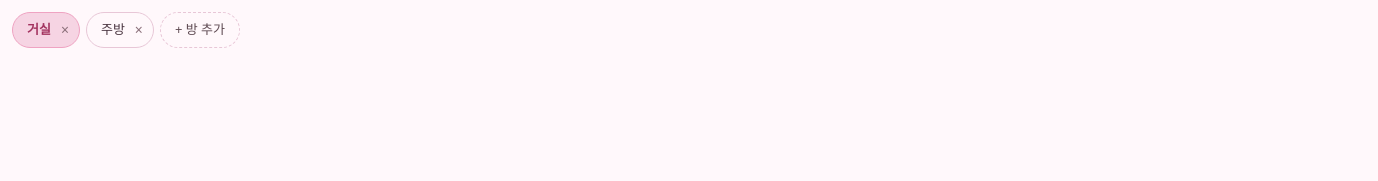
Test: RoomTabs › cancels the delete flow without changing anything
The image size is (1378, 181).
Click the button named "주방 삭제" at (143, 30), box [133,17,153,43]
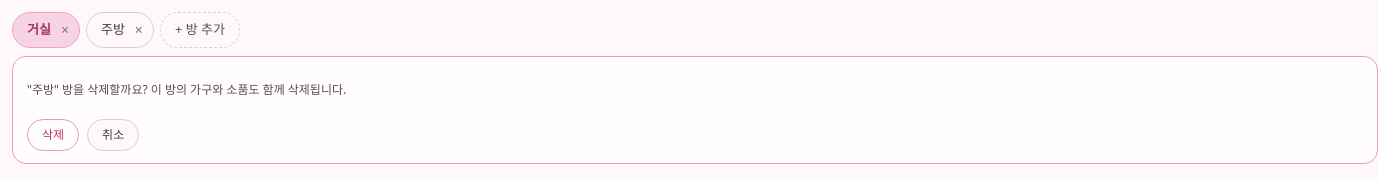
Click the button "취소" at (113, 134), box [87,118,139,150]
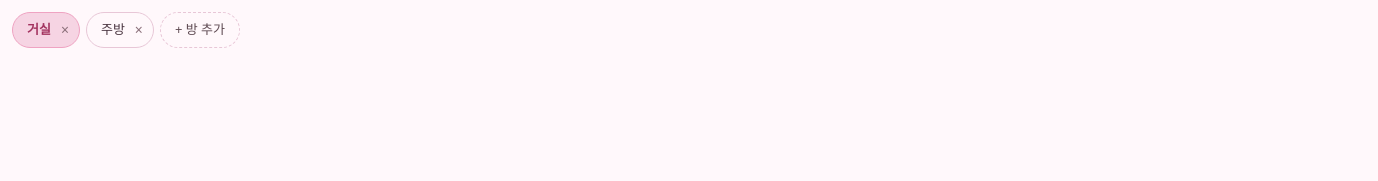
Now the text "삭제할까요" is gone
